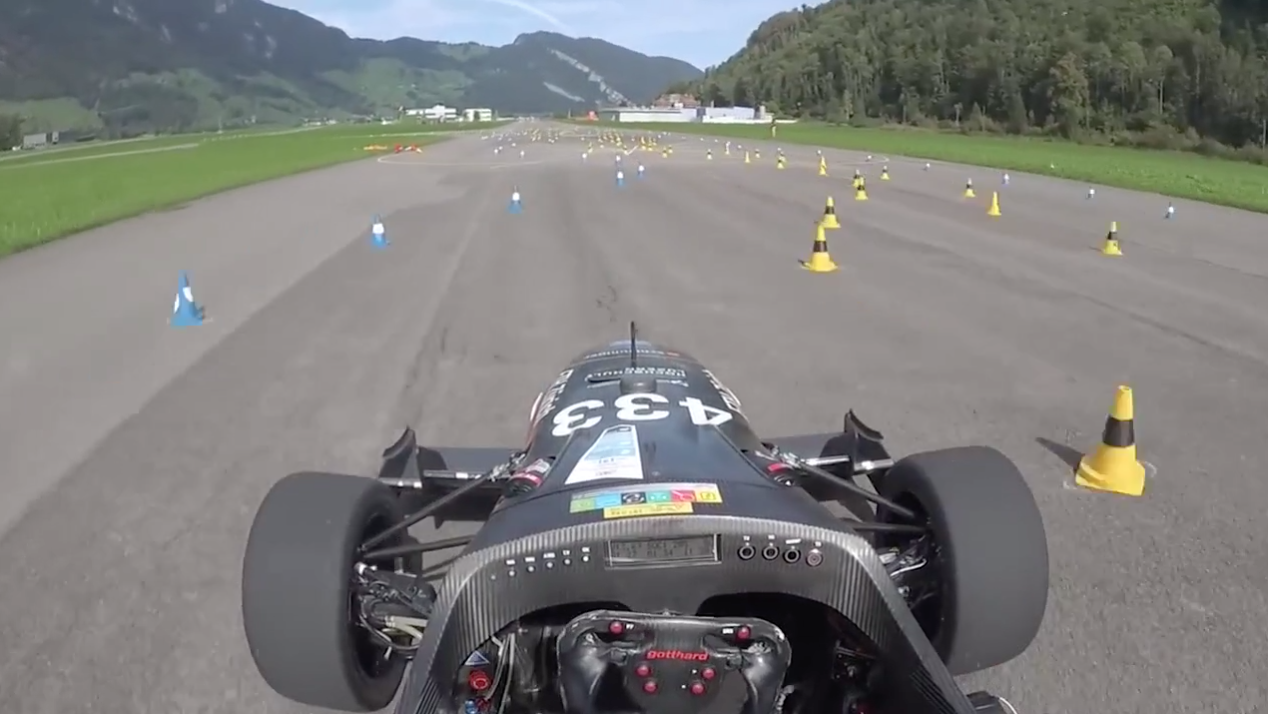lcone: (155, 264, 219, 330), (362, 213, 391, 252), (504, 182, 531, 216)
rcone: (1066, 381, 1162, 502), (797, 225, 840, 277), (1095, 216, 1131, 258), (819, 194, 844, 229)
